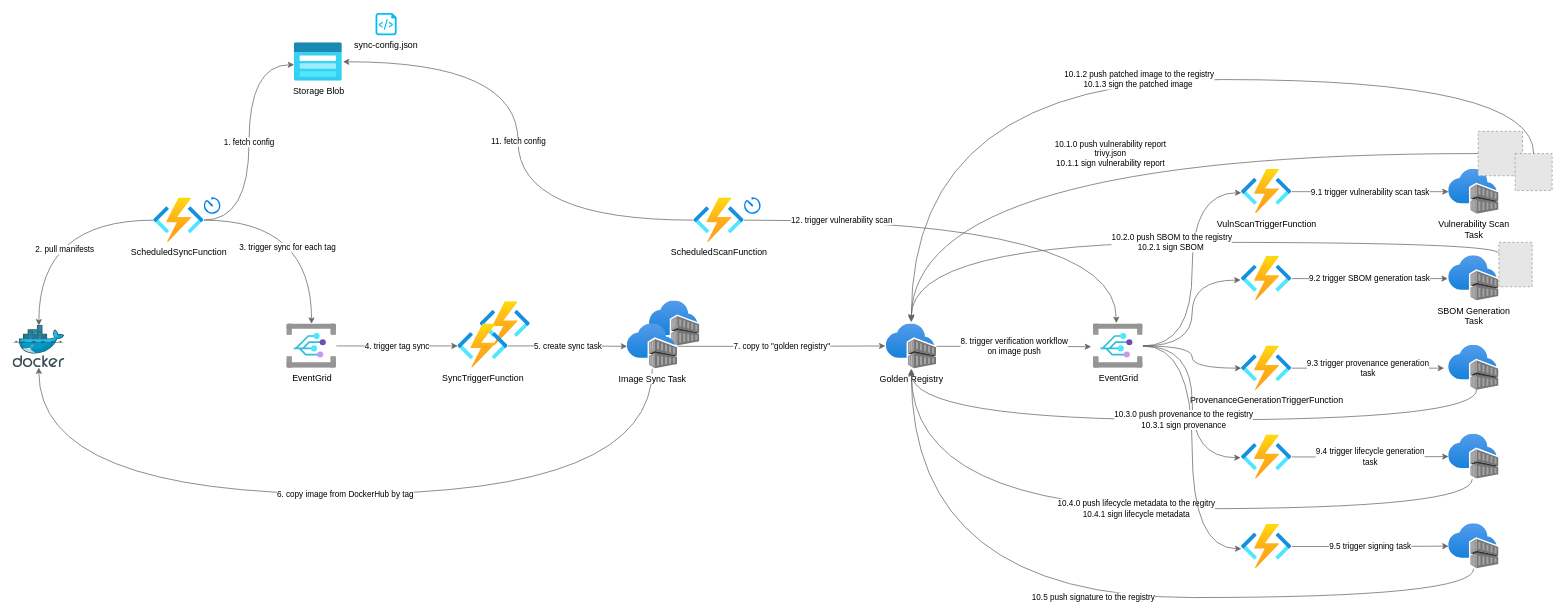
Some shapes in this 1565 by 615 pixel diagram are drawn without their labels. Grey dashed boxes stand in for pictures. Each missing label, with the box of its shape:
Lifecycle Generation Task: (1448, 434, 1498, 479)
LifecycleGenerationTriggerFunction: (1241, 434, 1291, 479)
Provenance Generation Task: (1448, 345, 1498, 390)
SBOMGenerationTriggerFunction: (1241, 256, 1291, 300)
Sign Image Task: (1448, 523, 1498, 568)
SignImageTriggerFunction: (1241, 524, 1291, 568)
